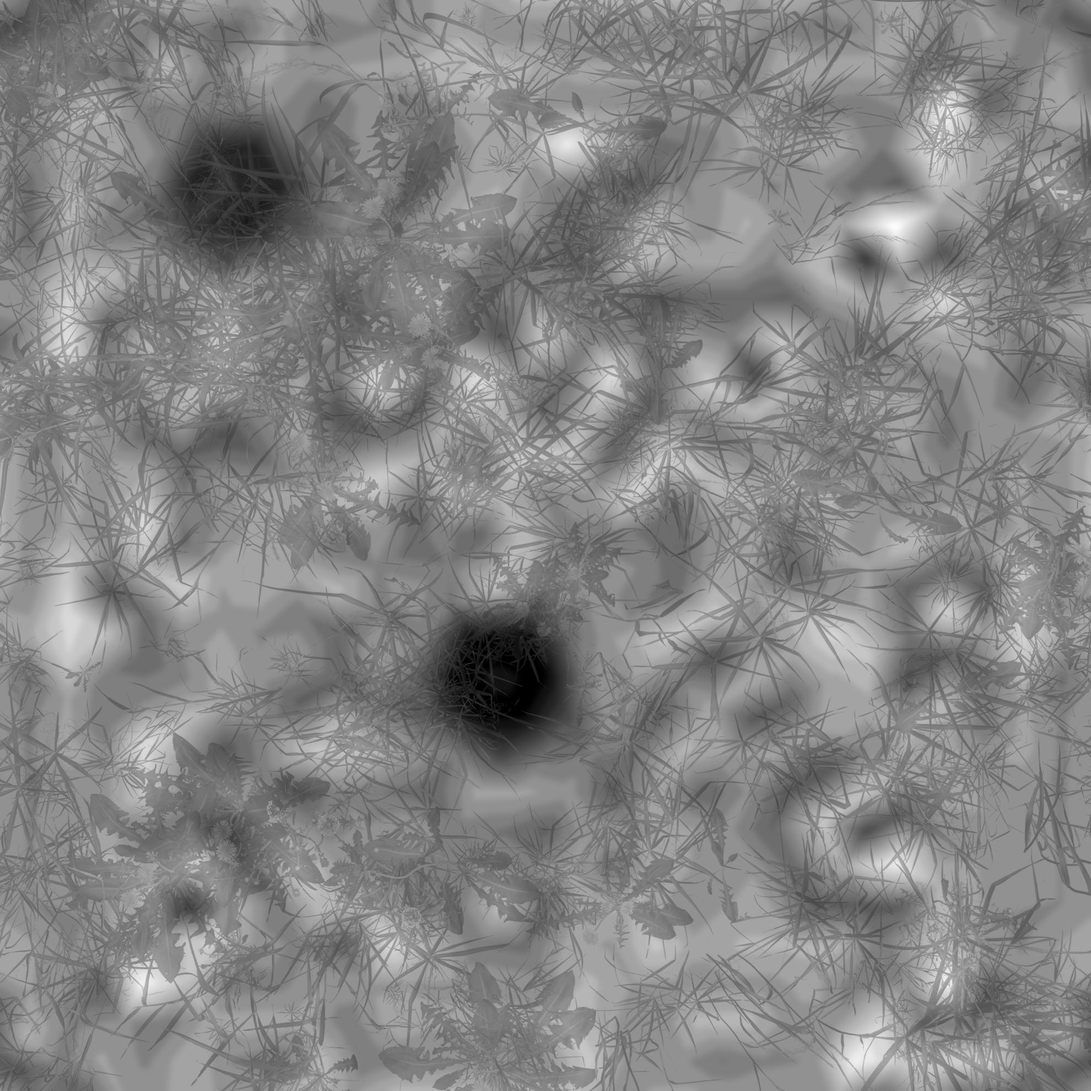landmine: (433, 600, 580, 758), (155, 120, 303, 268)
